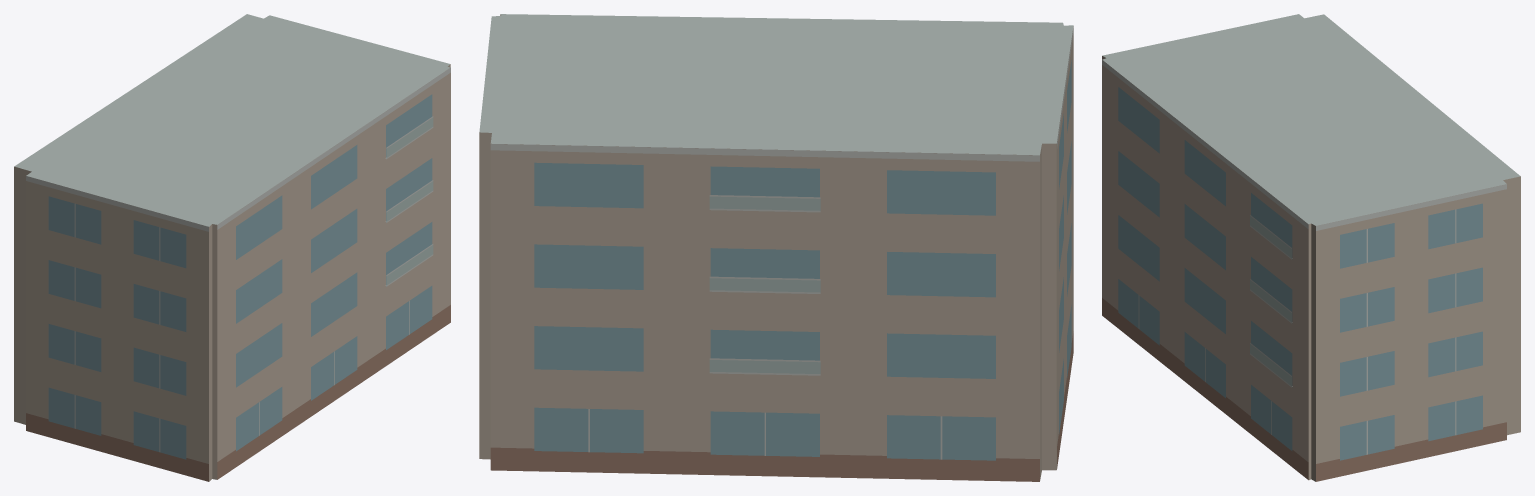
The model's file is survey-upis-32947618.glb.
The picture shows the model from 3 angles, left to right: view 1: azimuth 30°, elevation 25°; view 2: azimuth 150°, elevation 25°; view 3: azimuth 270°, elevation 25°; orthographic projection. The views are drawn at different scales.
Parts seen in each view (by area): view 1: survey-upis-32947618.tmp; view 2: survey-upis-32947618.tmp; view 3: survey-upis-32947618.tmp.
Part boxes in pixels (left/top/right/bottom): survey-upis-32947618.tmp: left=14, top=14, right=450, bottom=481; survey-upis-32947618.tmp: left=479, top=14, right=1073, bottom=481; survey-upis-32947618.tmp: left=1102, top=14, right=1520, bottom=481.
Bounding box in the file's own units: 21.68 × 12.2 × 18.1.
